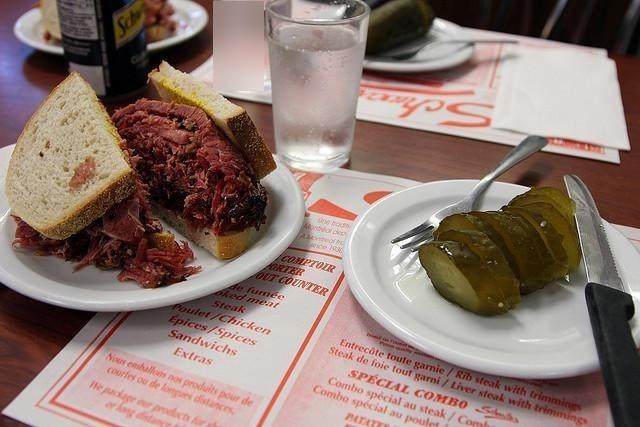glass-normal: (267, 1, 370, 172)
